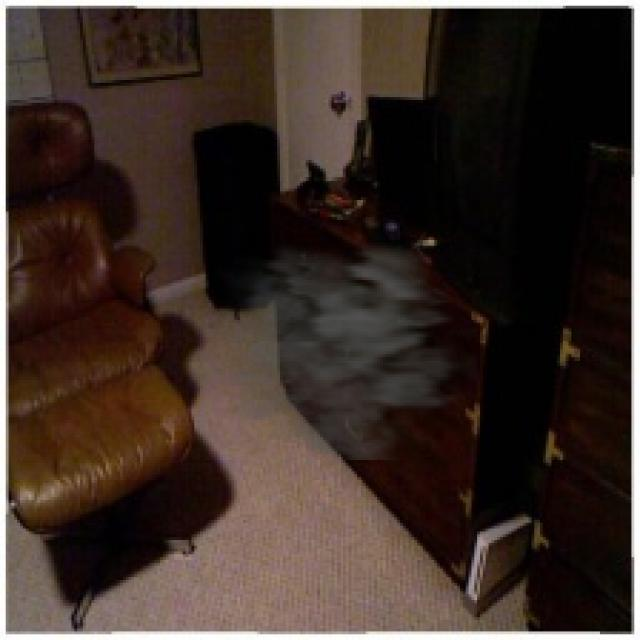Smoke: (197, 225, 477, 460)
